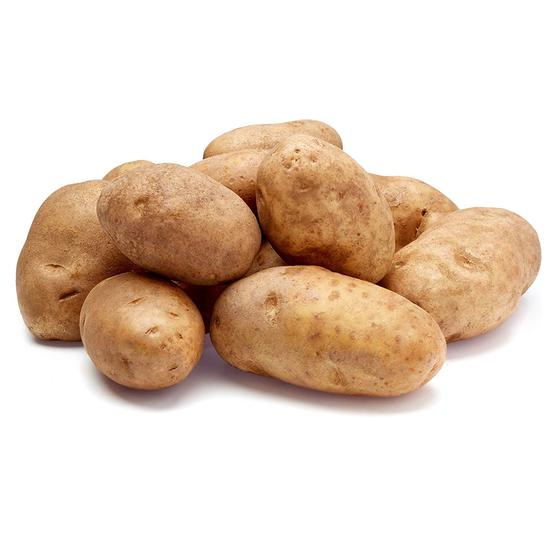potato: (203, 261, 448, 400), (92, 146, 271, 282), (254, 133, 409, 288), (389, 206, 547, 340), (72, 264, 212, 400)
